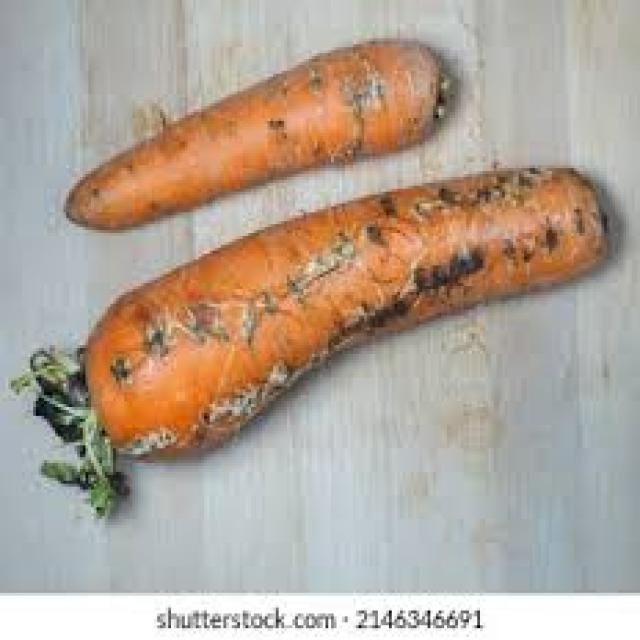Stale_Carrot: (64, 177, 619, 465), (64, 51, 438, 234)
